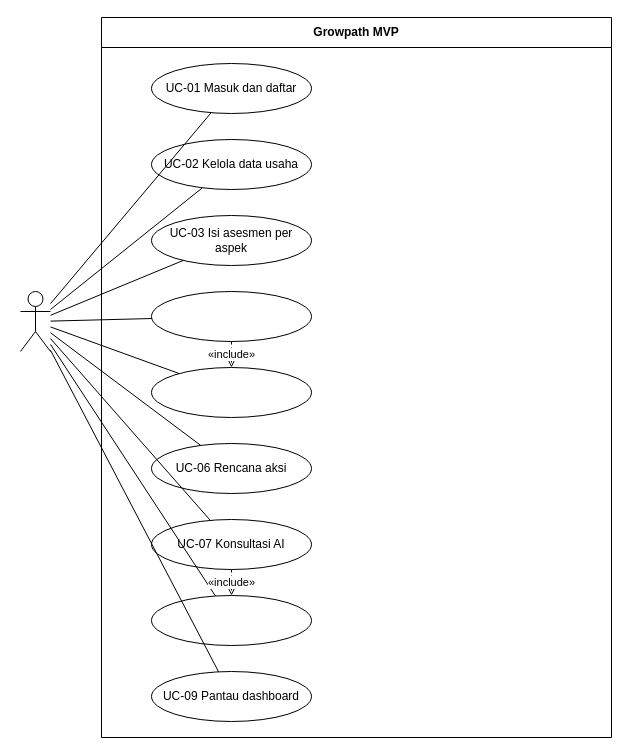
Image size: 629x755. Some labels were removed from this diagram. The shapes that lost their labels are listed below. From the top down, each one's centre as x and y in pixels, then its label:
At point 35,321: "UMKM".
At point 231,316: "UC-04 Tinjau dan submit".
At point 231,392: "UC-05 Lihat skor dan segmen".
At point 231,620: "UC-08 Lihat dan nilai log".
